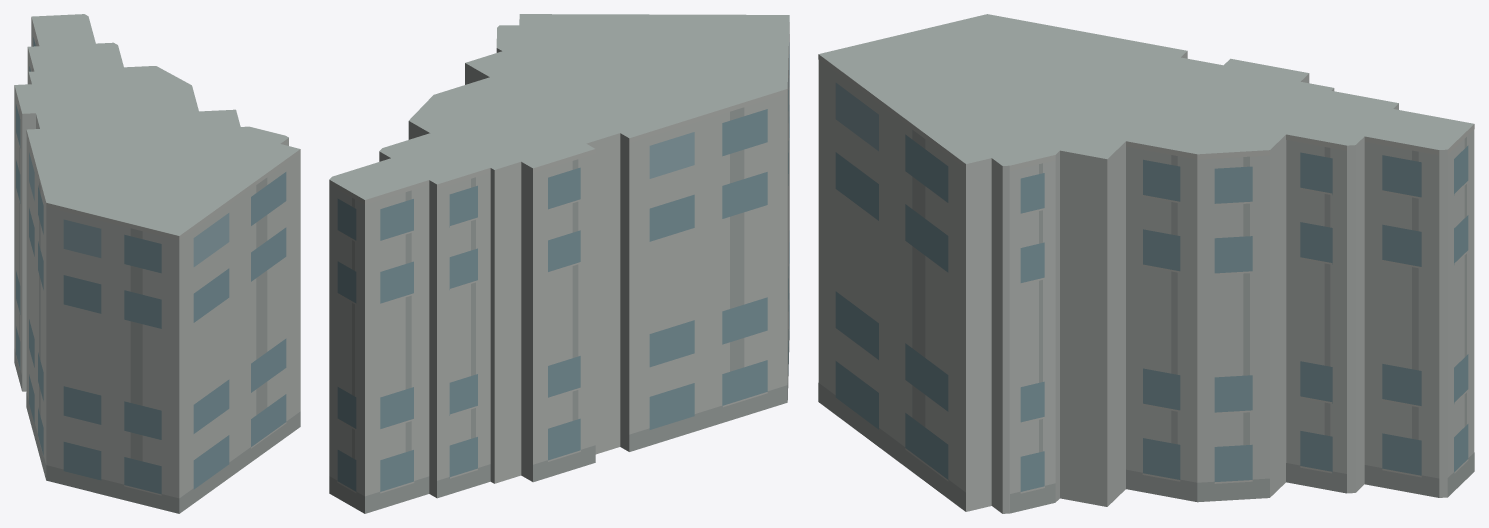
Rendered from survey-upis-32581372.glb.
3 views of the same model, side by side, from view 1: azimuth 30°, elevation 25°; view 2: azimuth 150°, elevation 25°; view 3: azimuth 270°, elevation 25° (orthographic). The views are drawn at different scales.
Visible parts, largest first — view 1: survey-upis-32581372.tmp; view 2: survey-upis-32581372.tmp; view 3: survey-upis-32581372.tmp.
Boxes of the visible parts, x1=… form: survey-upis-32581372.tmp: x1=14, y1=14, x2=300, y2=513; survey-upis-32581372.tmp: x1=329, y1=14, x2=789, y2=513; survey-upis-32581372.tmp: x1=818, y1=14, x2=1474, y2=513.
Bounding box in the file's own units: 14.67 × 15.64 × 26.74.
